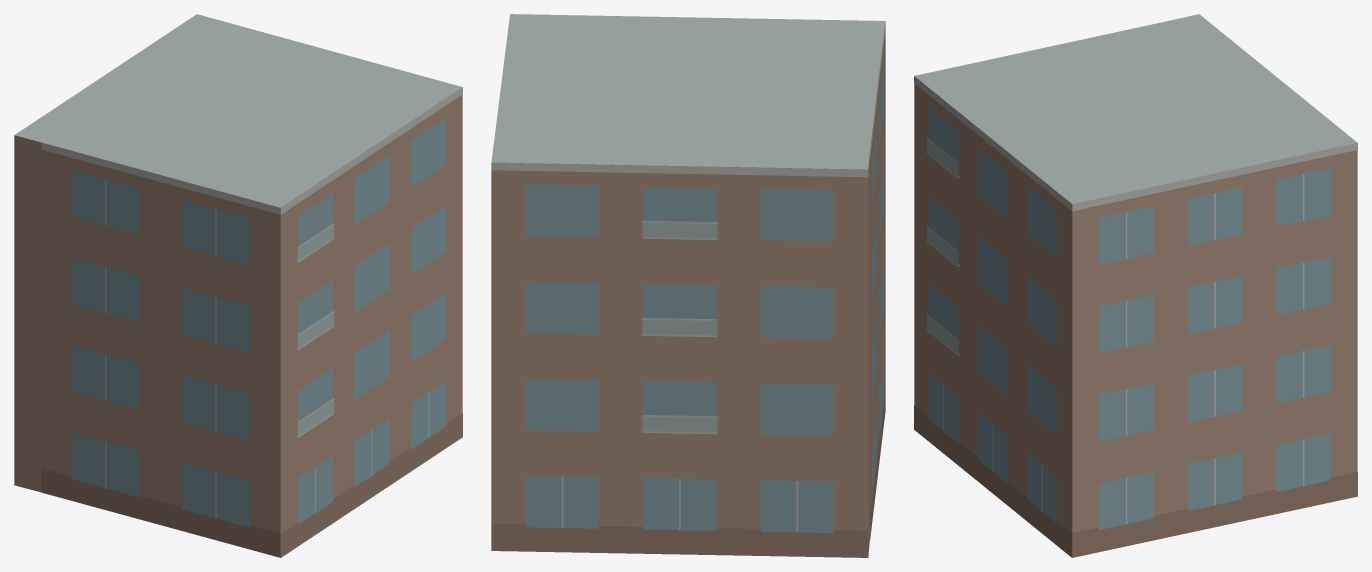
Rendered from survey-upis-33019013.glb.
3 renders of one model, left to right at view 1: azimuth 30°, elevation 25°; view 2: azimuth 150°, elevation 25°; view 3: azimuth 270°, elevation 25°, orthographic. The views are drawn at different scales.
Visible parts, largest first — view 1: survey-upis-33019013.tmp; view 2: survey-upis-33019013.tmp; view 3: survey-upis-33019013.tmp.
Boxes of the visible parts, x1,y1,x2,y2 form: survey-upis-33019013.tmp: (14, 14, 462, 557); survey-upis-33019013.tmp: (491, 14, 885, 557); survey-upis-33019013.tmp: (914, 14, 1357, 557).
Size of the model in its own units: 14.08 by 12.2 by 13.88.
